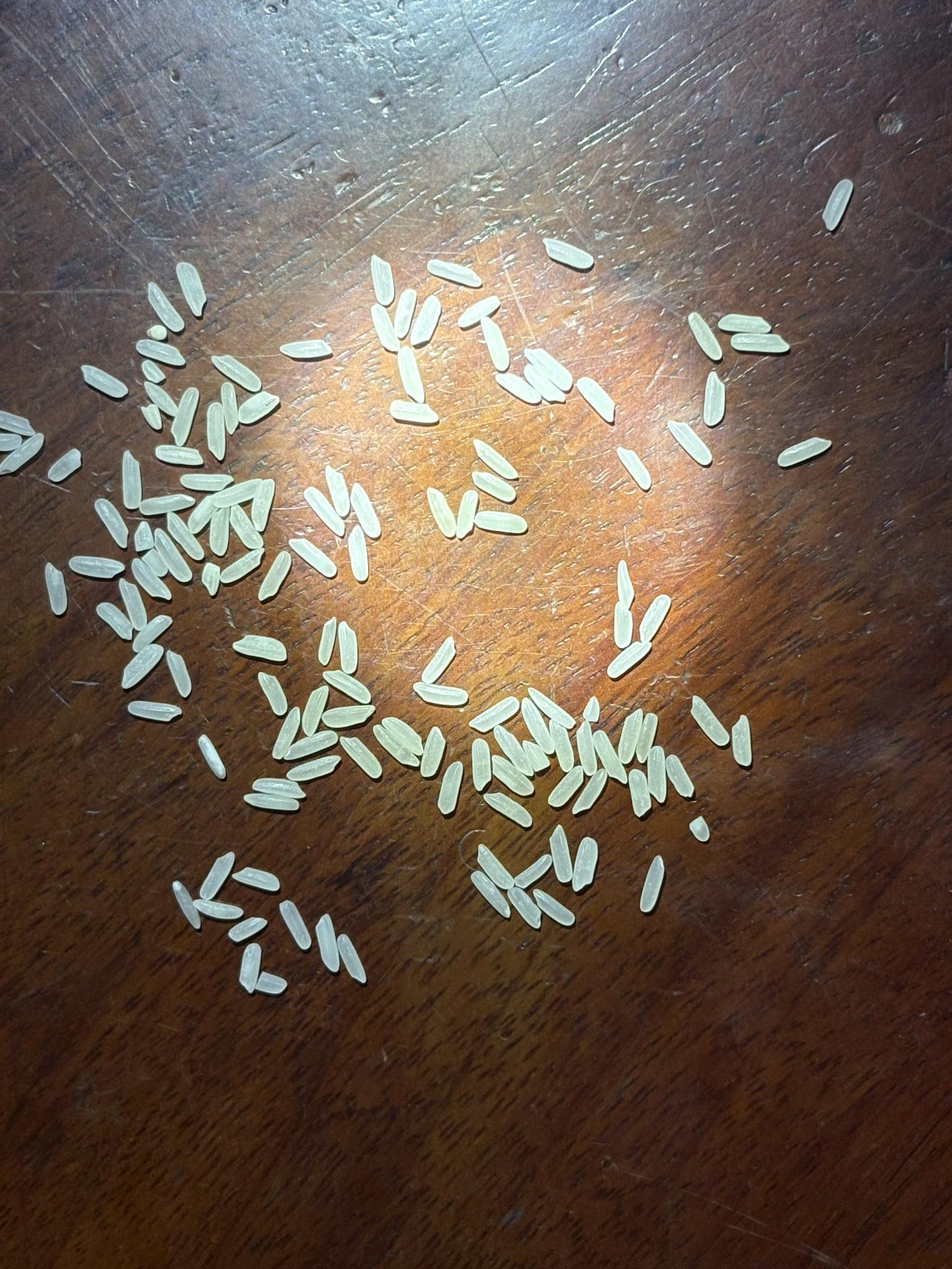Rice-th-y-nh: (302, 485, 347, 540), (152, 527, 193, 583), (666, 419, 713, 467), (688, 695, 730, 748), (391, 346, 430, 403), (346, 482, 385, 539), (288, 536, 338, 580), (210, 353, 263, 393), (526, 686, 574, 730), (422, 485, 461, 539), (519, 698, 555, 756), (493, 725, 533, 776), (612, 708, 649, 763), (472, 438, 519, 481), (120, 644, 164, 689), (526, 347, 573, 389), (246, 478, 282, 532), (166, 511, 204, 562), (146, 282, 184, 333), (341, 525, 375, 582), (339, 735, 383, 779), (372, 723, 417, 766), (575, 376, 617, 422), (470, 871, 510, 918), (319, 465, 355, 517), (129, 557, 172, 600), (592, 730, 626, 784), (469, 696, 520, 732), (199, 851, 236, 900), (94, 497, 130, 547), (257, 551, 293, 601), (476, 844, 515, 890), (725, 715, 759, 767), (323, 668, 372, 704), (522, 362, 565, 403), (1, 433, 45, 473), (606, 639, 651, 678), (484, 792, 534, 827), (331, 621, 364, 674), (219, 547, 265, 585), (278, 899, 312, 950), (408, 295, 442, 346), (450, 489, 484, 540), (421, 637, 457, 685), (382, 716, 424, 757), (491, 756, 534, 796), (688, 312, 723, 361), (170, 388, 200, 445), (776, 436, 831, 467), (210, 478, 265, 509), (571, 769, 608, 815), (228, 504, 265, 550), (638, 593, 672, 643), (615, 446, 653, 490), (413, 679, 470, 708), (427, 258, 482, 288), (298, 685, 331, 735), (283, 731, 338, 761), (233, 633, 288, 663), (480, 318, 511, 371), (543, 238, 593, 270), (81, 364, 128, 398), (314, 913, 341, 972), (532, 889, 575, 926), (272, 707, 302, 760), (606, 601, 639, 649), (176, 262, 207, 313), (548, 765, 585, 807), (237, 389, 280, 425), (821, 180, 853, 228), (96, 602, 135, 641), (370, 303, 401, 352), (609, 560, 640, 609), (495, 371, 541, 404), (471, 470, 517, 503), (571, 838, 599, 892), (171, 881, 202, 929), (118, 579, 147, 630), (132, 615, 173, 651), (507, 886, 541, 929), (323, 702, 375, 730), (256, 672, 289, 716), (337, 933, 366, 983), (136, 338, 186, 367), (42, 563, 69, 616), (474, 508, 527, 535), (639, 857, 665, 912), (701, 371, 727, 426), (216, 381, 244, 432), (549, 825, 574, 882), (68, 554, 125, 579), (457, 296, 501, 328), (287, 756, 341, 782), (625, 768, 653, 817), (438, 761, 464, 813), (419, 727, 446, 777), (204, 403, 228, 459), (549, 722, 575, 773), (634, 712, 660, 763), (128, 698, 181, 723), (665, 754, 695, 798), (197, 735, 227, 779), (730, 332, 790, 354), (120, 452, 143, 509), (369, 256, 395, 306), (165, 650, 193, 696), (514, 855, 553, 888), (390, 399, 439, 425), (280, 337, 333, 361), (252, 776, 307, 799), (646, 744, 668, 801), (392, 288, 417, 338), (575, 723, 599, 775), (180, 470, 232, 494), (144, 381, 178, 417), (717, 312, 770, 335), (243, 791, 301, 812), (139, 494, 194, 516), (470, 738, 493, 790), (234, 866, 281, 891), (208, 508, 232, 556), (193, 898, 242, 921), (239, 943, 262, 992), (316, 616, 339, 665), (47, 449, 82, 481), (156, 444, 203, 466), (228, 916, 267, 942), (0, 410, 34, 437), (198, 561, 224, 596), (522, 740, 550, 771), (141, 548, 169, 576), (255, 972, 287, 995), (133, 522, 154, 551), (688, 816, 711, 842), (141, 404, 162, 430), (141, 360, 164, 383), (583, 696, 602, 723)
